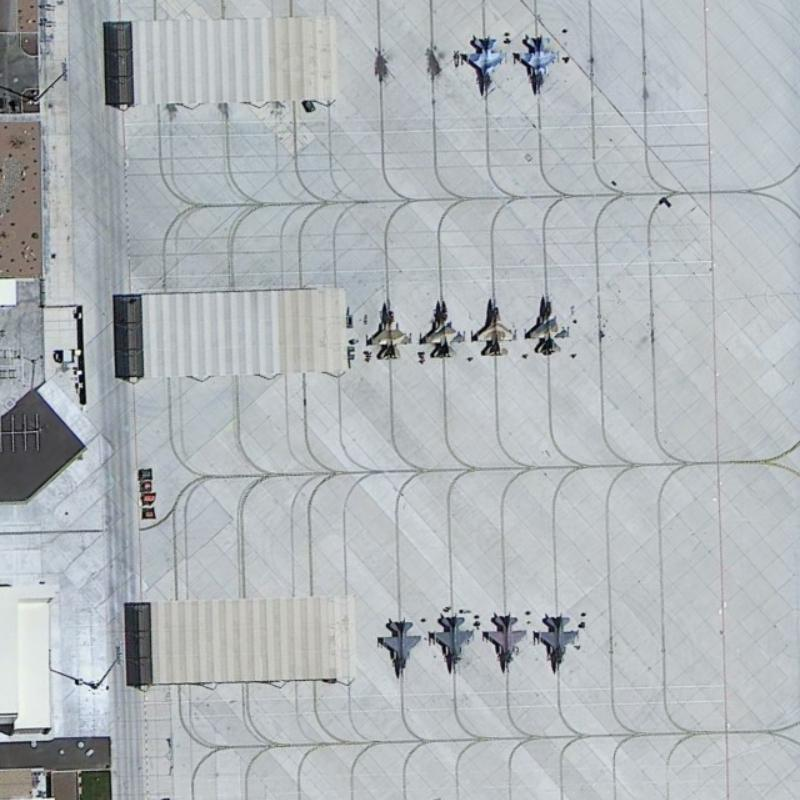A5: (418, 290, 469, 367), (517, 289, 573, 359), (513, 25, 564, 99), (458, 29, 508, 104), (361, 289, 413, 361), (373, 608, 423, 681), (478, 606, 529, 677), (428, 607, 478, 679), (471, 292, 519, 361), (531, 609, 581, 675)
